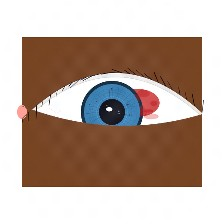hemorrhage_spot: (108, 79, 168, 127)
